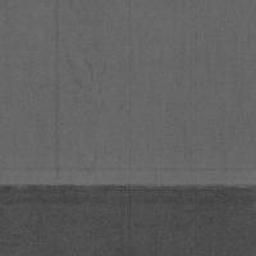Welding line: (0, 182, 256, 191)
